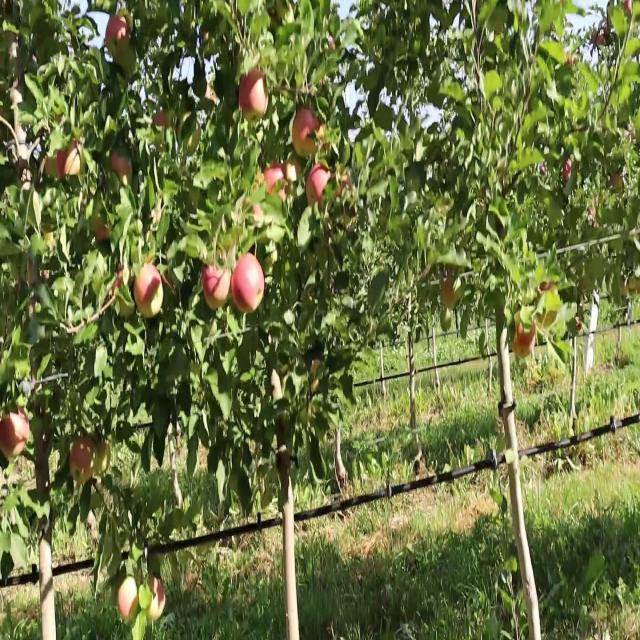apple: (232, 255, 265, 315), (292, 106, 324, 160), (136, 263, 163, 320), (240, 71, 269, 123), (0, 412, 31, 457), (204, 263, 231, 313), (72, 433, 97, 484), (112, 270, 136, 320), (108, 14, 132, 62), (308, 163, 331, 208), (536, 284, 560, 325), (264, 163, 288, 203), (244, 177, 265, 222), (60, 142, 82, 180), (120, 583, 140, 624), (148, 575, 165, 622), (516, 319, 536, 354), (112, 149, 132, 183), (44, 149, 65, 180), (284, 156, 303, 190), (516, 327, 536, 359), (540, 284, 559, 313), (336, 170, 353, 201), (92, 220, 112, 245), (444, 277, 460, 308), (112, 270, 126, 300), (156, 113, 169, 130), (588, 206, 597, 228), (564, 163, 572, 185), (624, 0, 633, 16), (612, 177, 624, 188), (576, 319, 584, 334)
